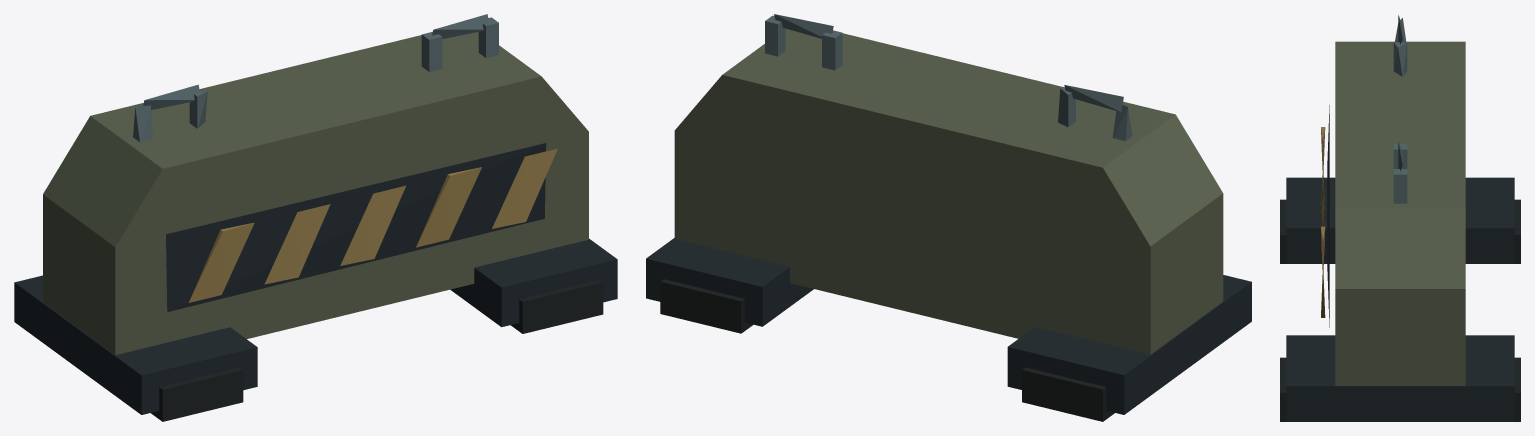
File: ROAD_BLOCK.shadow.glb
3 renders of one model, left to right at view 1: azimuth 30°, elevation 25°; view 2: azimuth 150°, elevation 25°; view 3: azimuth 270°, elevation 25°, orthographic. The views are drawn at different scales.
Visible parts, largest first — view 1: Body_Mesh; view 2: Body_Mesh; view 3: Body_Mesh.
Boxes of the visible parts, bbox=[...] form: Body_Mesh: bbox=[14, 14, 617, 421]; Body_Mesh: bbox=[646, 14, 1251, 421]; Body_Mesh: bbox=[1280, 15, 1520, 421].
Bounding box in the file's own units: 2.01 × 1.06 × 0.98.
